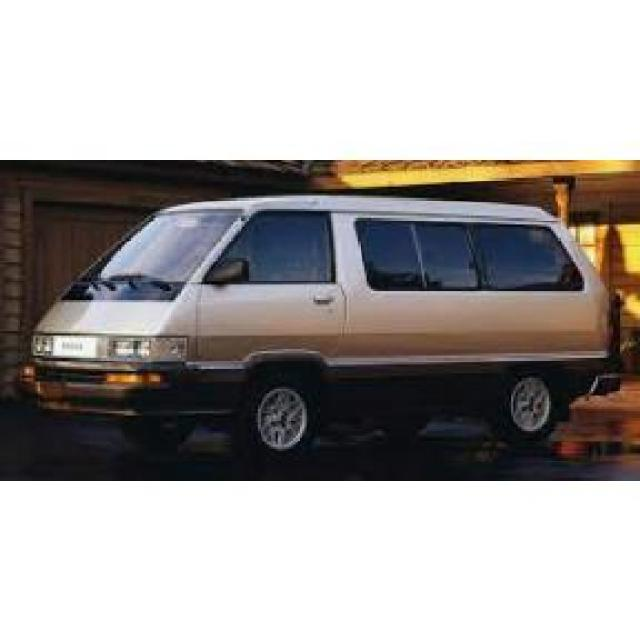Van: (27, 182, 617, 454)
